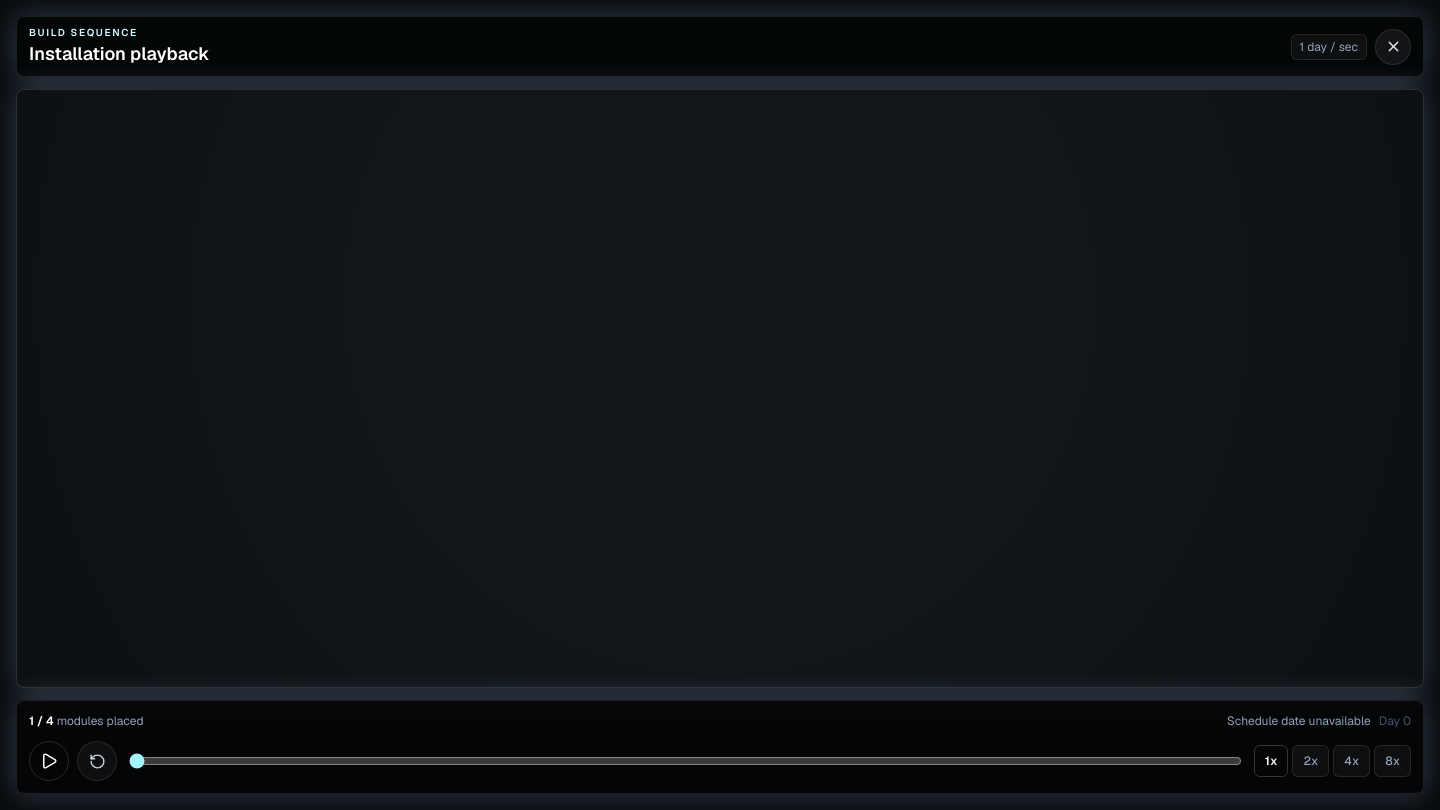
Test: BuildAnimationPlayer › provides video-style playback controls for the build animation
Expected: the button named "Restart build animation" is shown, [77,741,117,781]
Expected: the button named "Set playback speed to 4x" is shown, [1333,745,1370,777]
Click the button named "Start build animation" at point(49, 761), box [29,741,69,781]
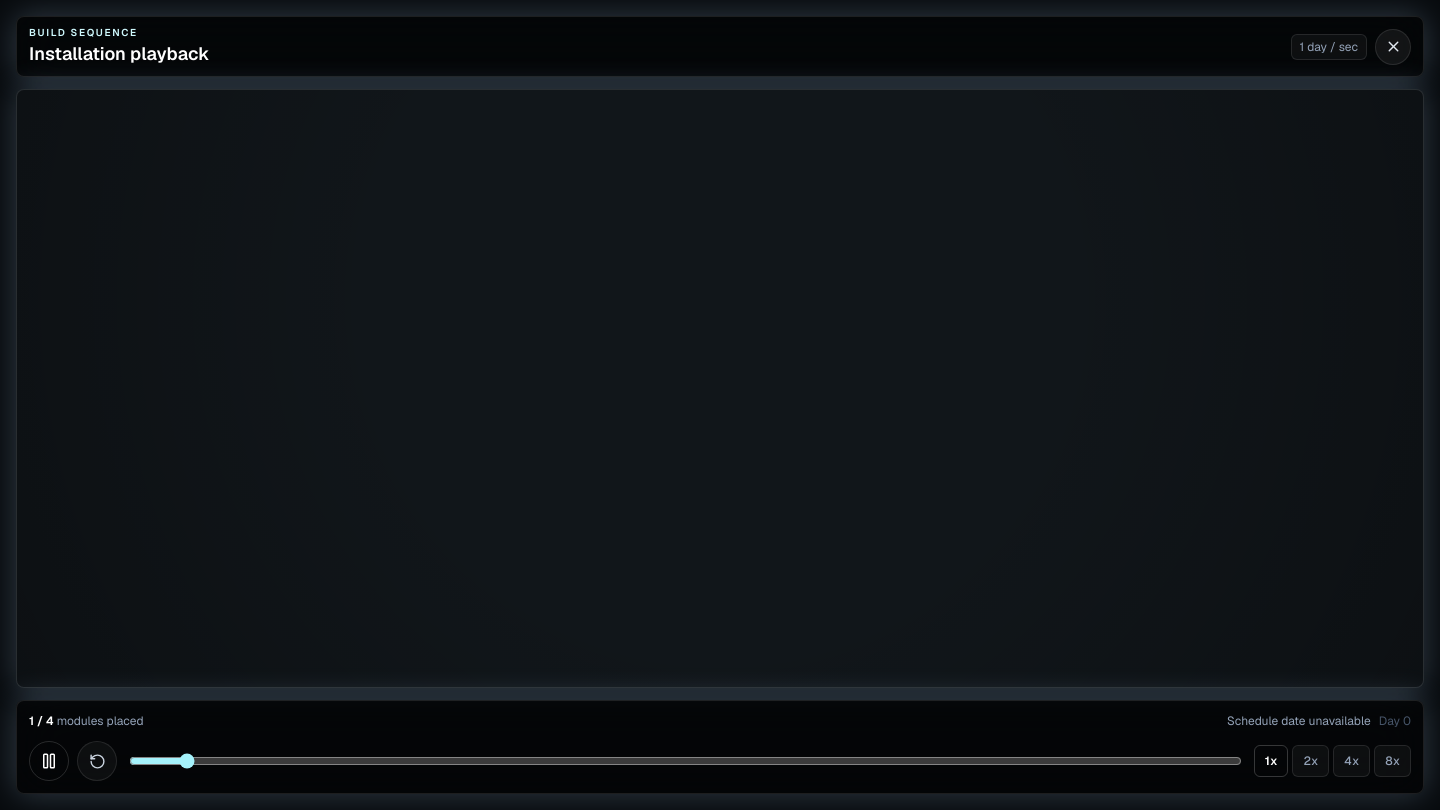
Expected: the button named "Pause build animation" is shown, [29,741,69,781]
